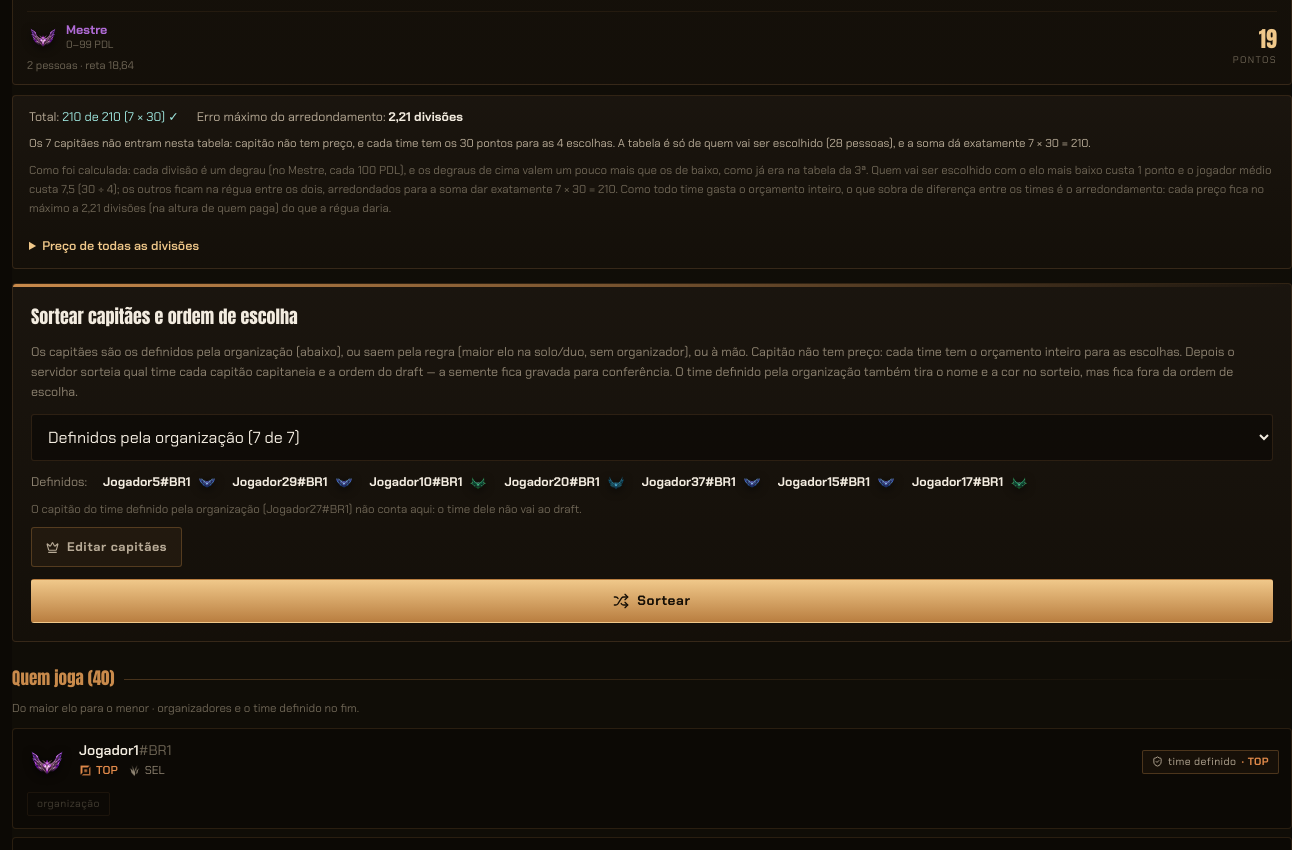
a mesa com o time definido pela organização › à mão, no celular: o cartão do membro tem a tag e nenhuma marcação de capitão
(page scrolled)
Select "À mão" in the dropdown named "Como escolher os capitães" at (652, 437), box [31,414,1273,461]
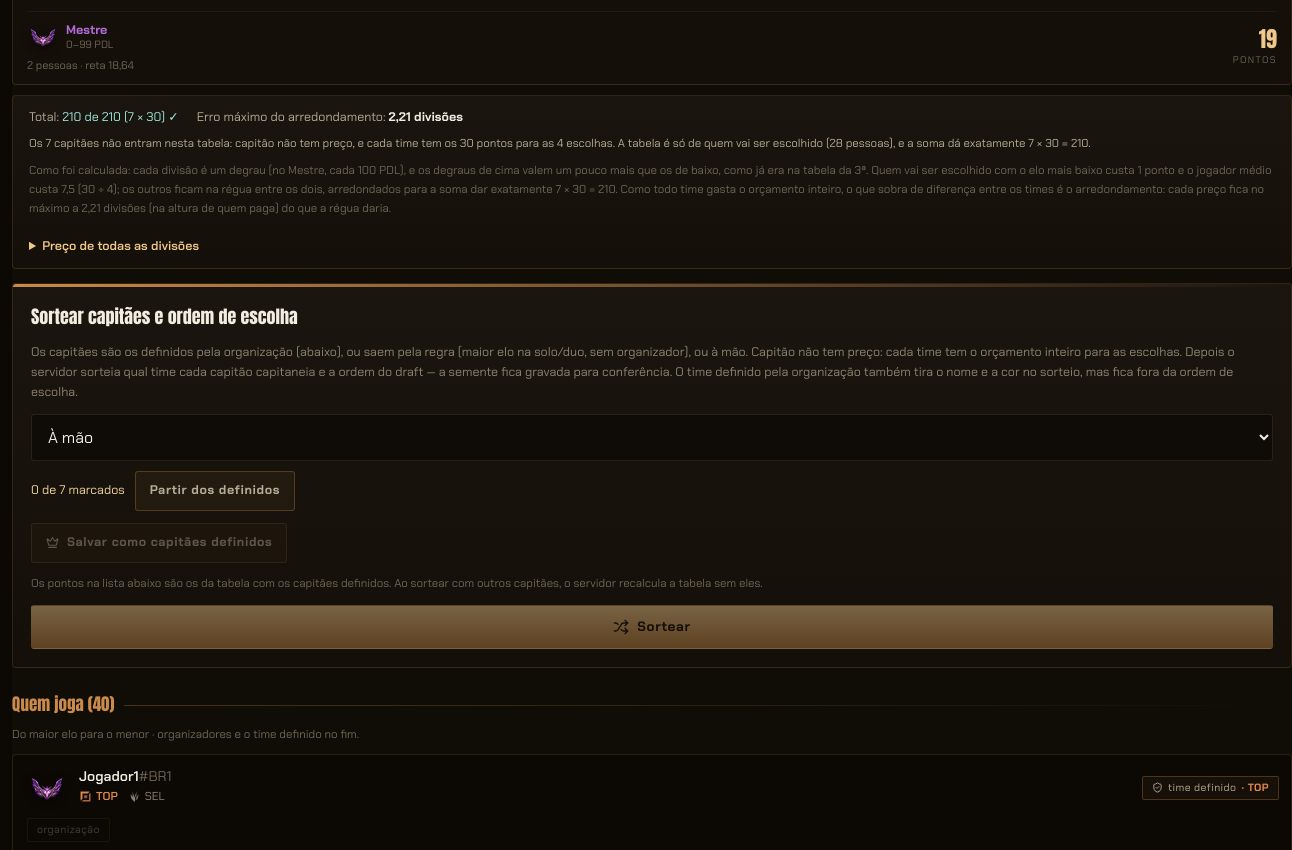
Check: the text "0 de 7 marcados" is shown, box [31,481,125,500]
